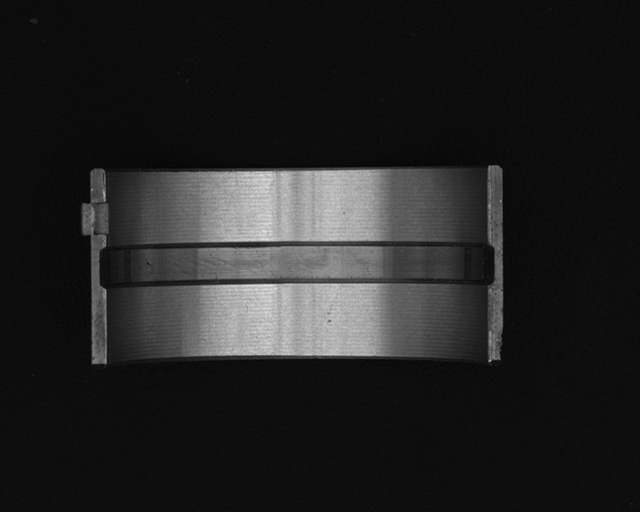gap: (96, 242, 497, 288)
